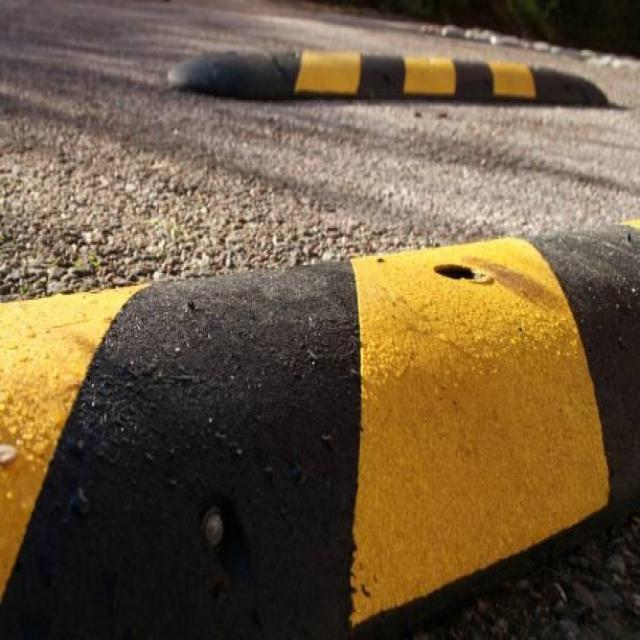speedbreaker: (0, 217, 640, 640), (169, 42, 625, 108)
